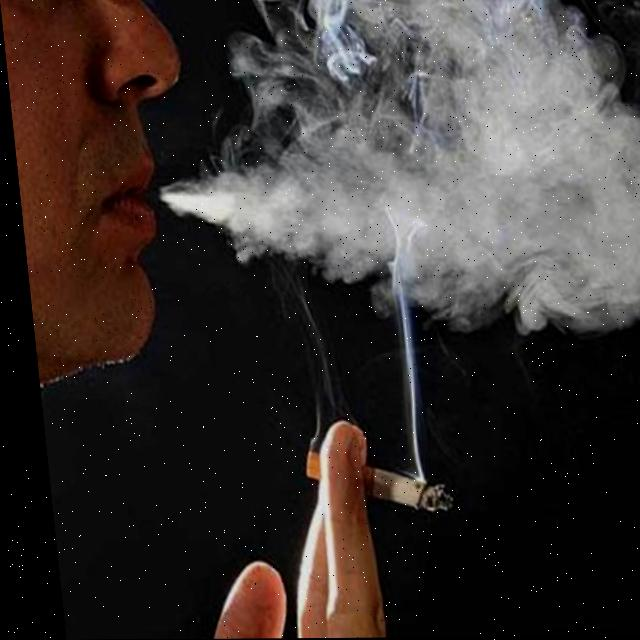cigarette: (291, 449, 449, 520)
